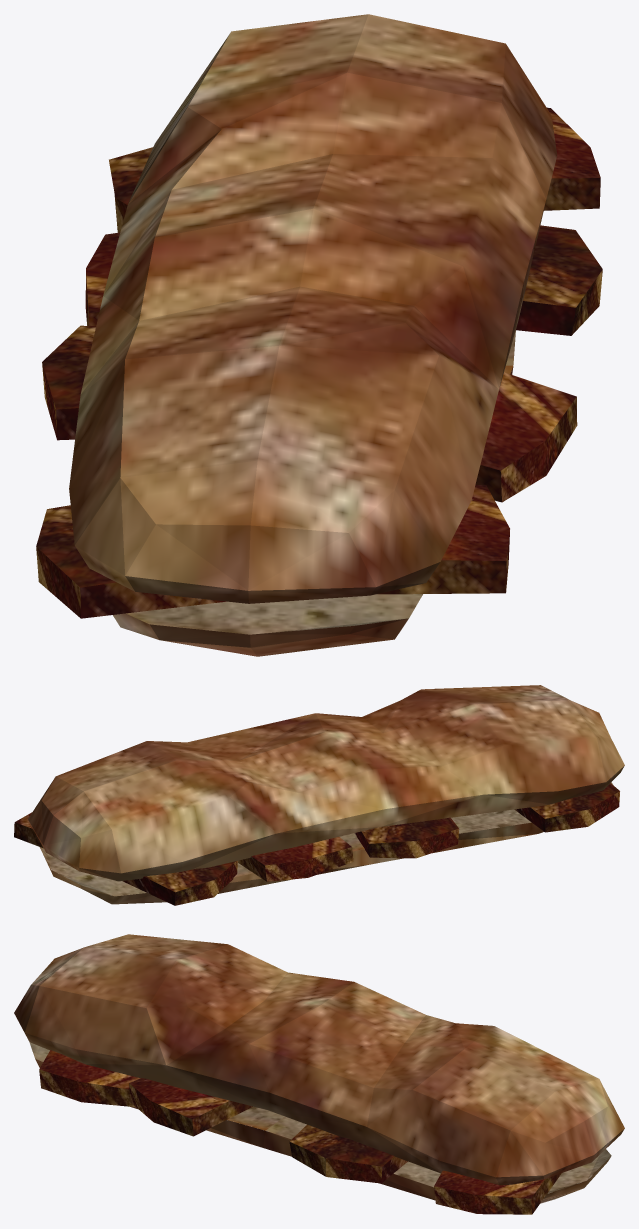
Rendered from ITFO_MEATANDBREAD.glb.
3 renders of one model, top to bottom at view 1: azimuth 30°, elevation 25°; view 2: azimuth 150°, elevation 25°; view 3: azimuth 270°, elevation 25°, orthographic. The views are drawn at different scales.
Visible parts, largest first — view 1: ITFO_MEATANDBREAD; view 2: ITFO_MEATANDBREAD; view 3: ITFO_MEATANDBREAD.
Part boxes in pixels (x1,y1,x2,y2): ITFO_MEATANDBREAD: (36, 14, 602, 656); ITFO_MEATANDBREAD: (14, 685, 624, 905); ITFO_MEATANDBREAD: (14, 934, 624, 1214).
Bounding box in the file's own units: 0.5484 × 0.1563 × 0.6299.
3 materials, 3 textured.
